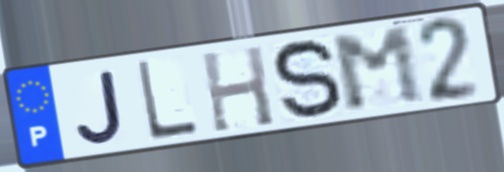2: (415, 11, 483, 111)
H: (198, 43, 278, 135)
J: (73, 67, 127, 146)
L: (133, 58, 201, 144)
M: (327, 23, 429, 116)
S: (269, 36, 346, 124)
